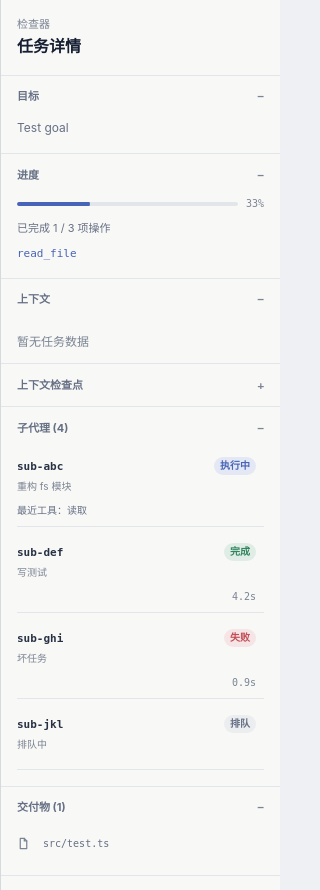
Test case: WorkspacePanel subagents › expands the summary when the card head is clicked
The width and height of the screenshot is (320, 890).
Expected: the text "完成 3 个测试" is not shown
Click the button with class "subagent-card-head" showing "sub-def 完成": (136, 552) left=17, top=543, right=256, bottom=561
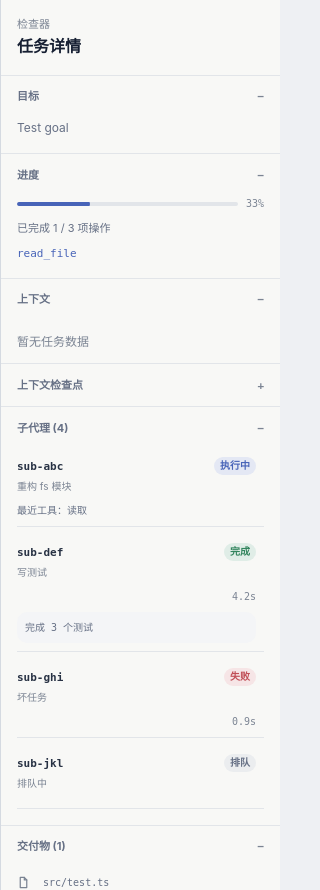
Expected: the text "完成 3 个测试" is shown, left=17, top=612, right=256, bottom=643
